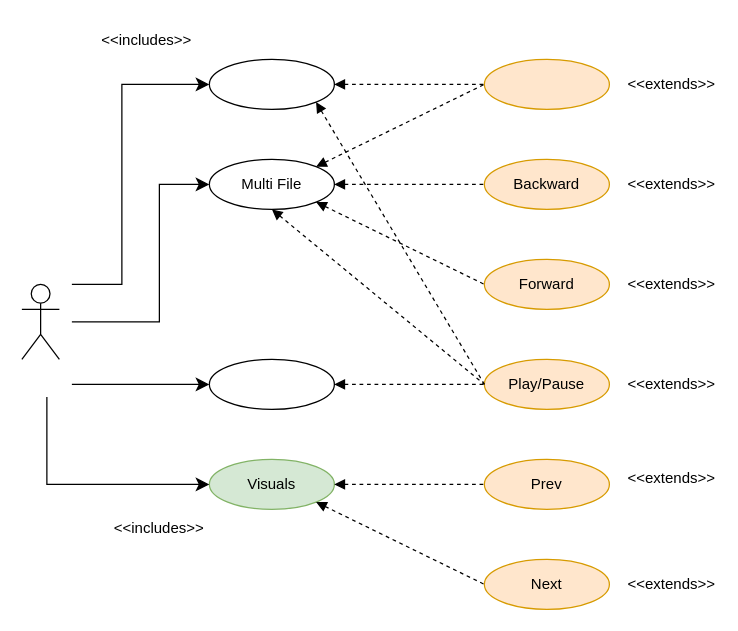
Image size: 738x631. Some labels were removed from this diagram. The centre of each missing label's shape, as x and y in pixels:
"Microphone" goes at (x=271, y=383).
"Single File" goes at (x=271, y=83).
"Slide" goes at (x=546, y=83).
"User" goes at (x=40, y=321).
